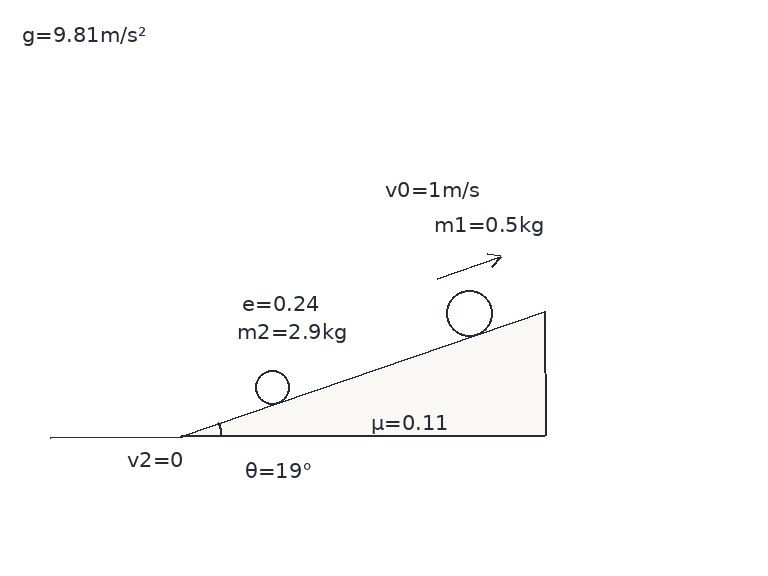ball: (444, 288, 494, 338), (253, 368, 291, 406)
ramp: (179, 309, 546, 438)
